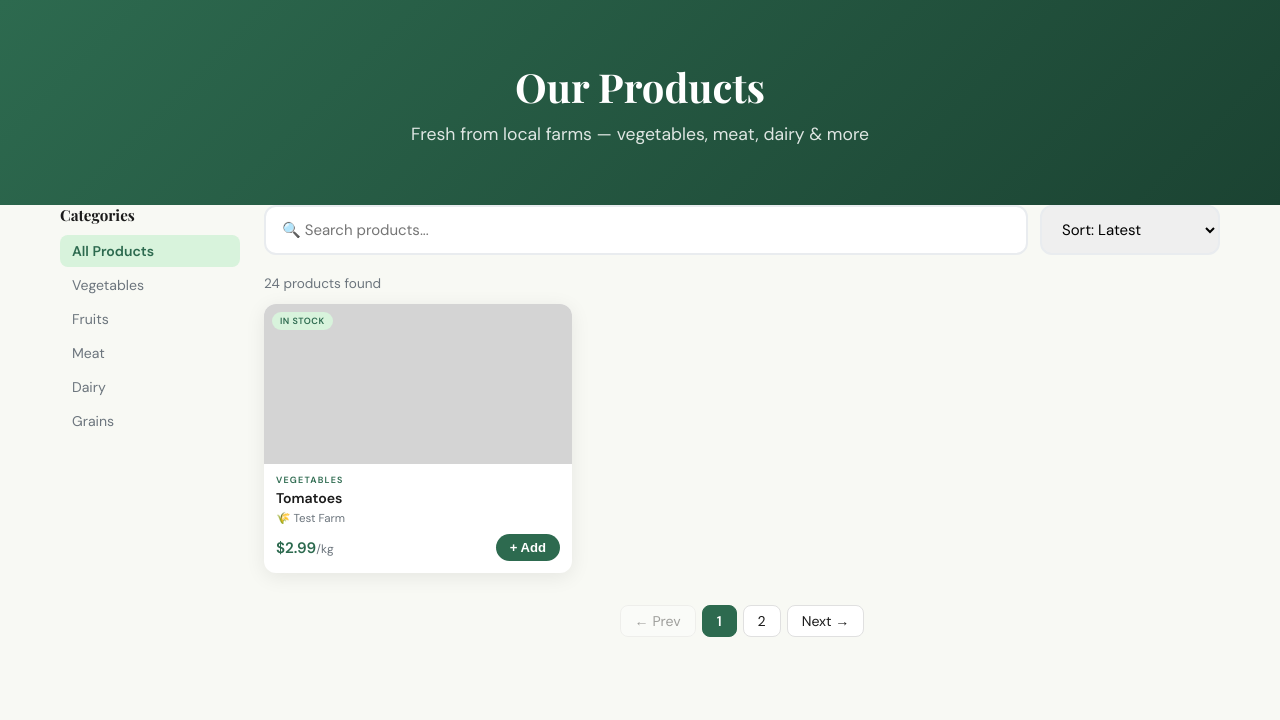
ShopPage — pagination › Next button is disabled on the last page
Click the button "2": [762, 621] box top-left (743, 605), bottom-right (781, 637)
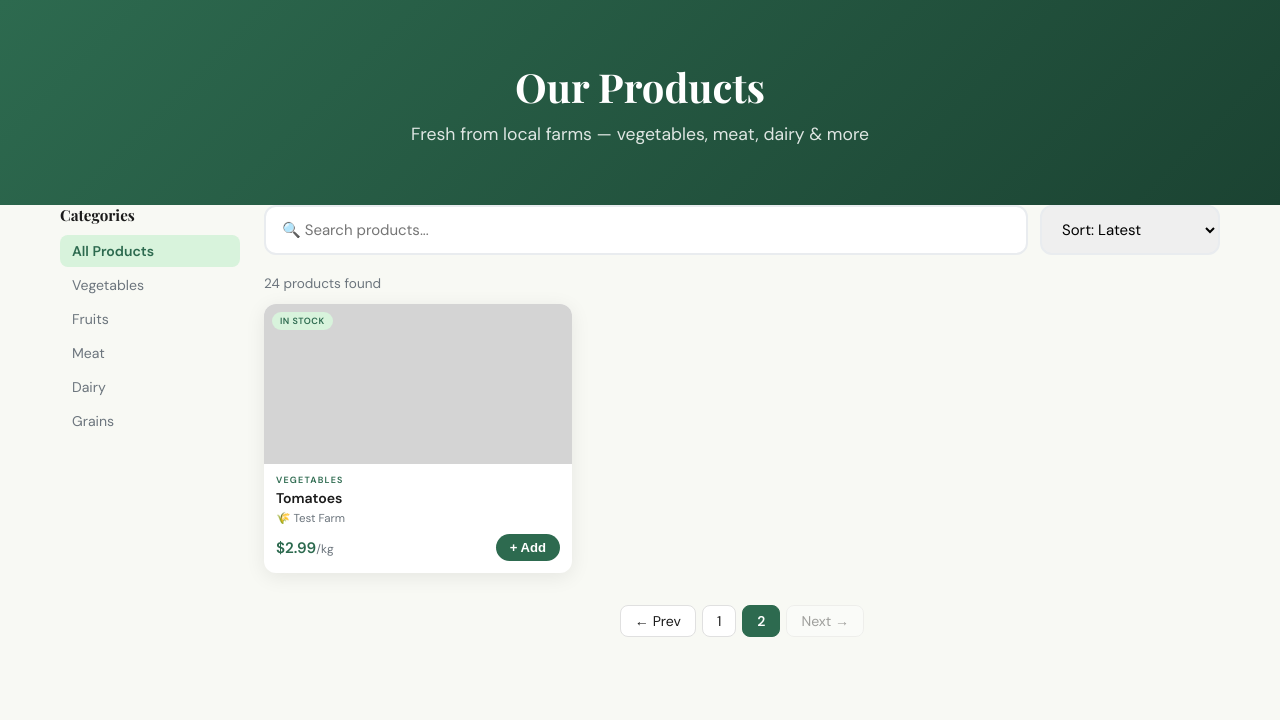
Now the button "Next →" is disabled, box top-left (786, 605), bottom-right (864, 637)
